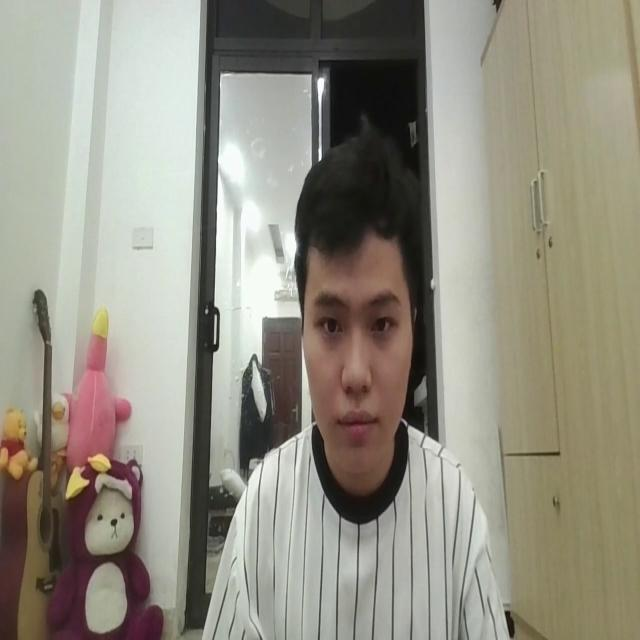student: (199, 126, 513, 640)
